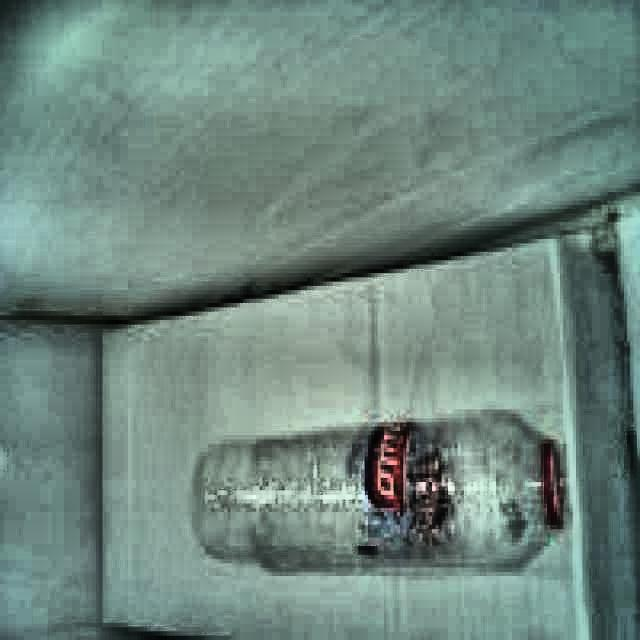plastic bottle: (200, 413, 567, 570)
